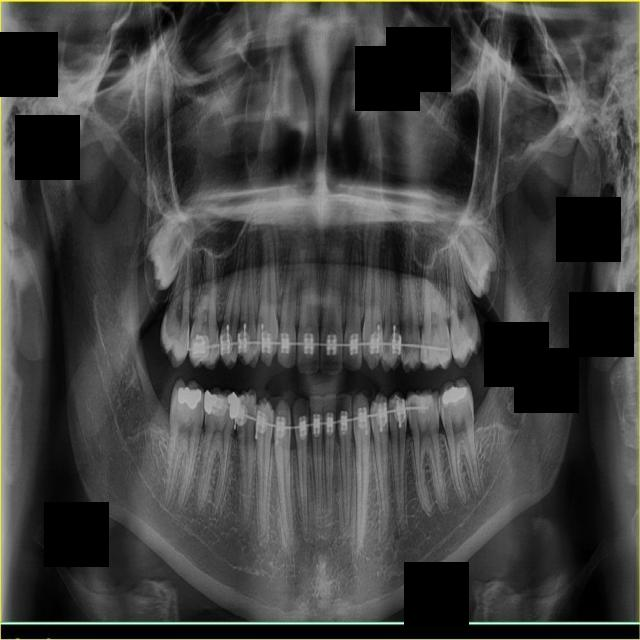NucleOSS Implant: (439, 380, 470, 410), (197, 390, 226, 418), (177, 387, 202, 410), (227, 394, 241, 418)
